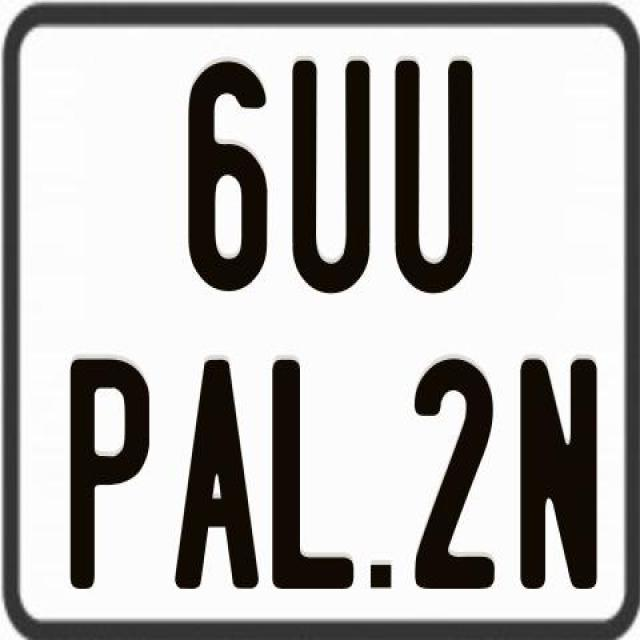2: (412, 356, 495, 588)
6: (186, 58, 266, 298)
A: (172, 356, 263, 594)
L: (270, 358, 354, 597)
N: (518, 358, 602, 594)
P: (66, 355, 150, 592)
U: (288, 59, 373, 299), (391, 58, 476, 290)
